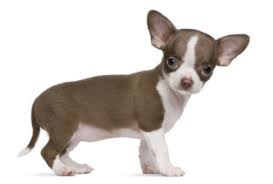chihuahua: (13, 6, 251, 167)
